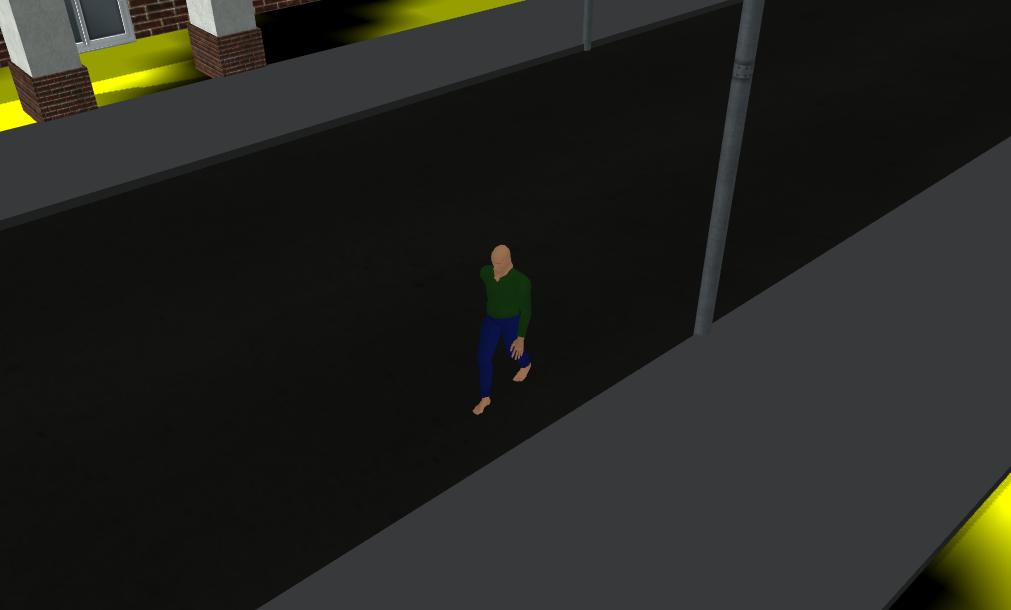human: (467, 231, 547, 415)
